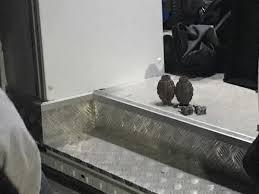Grenade: (156, 73, 175, 104), (173, 74, 192, 105)
